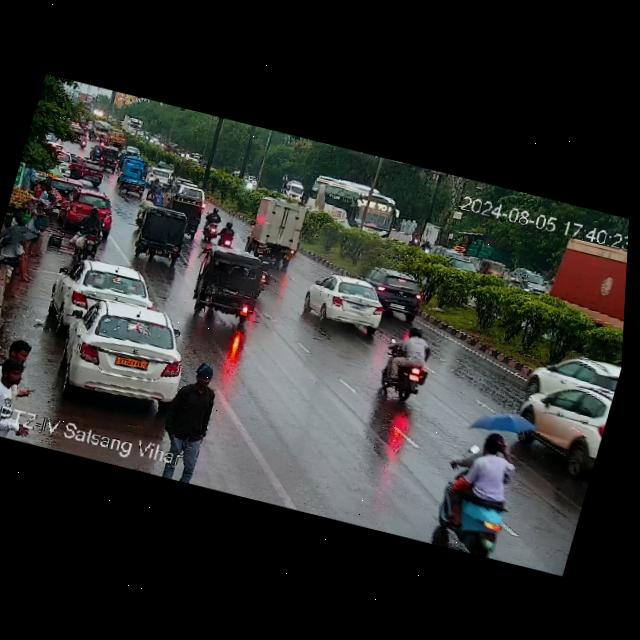bus: (297, 171, 409, 248)
car: (47, 291, 197, 411), (48, 252, 156, 333), (508, 373, 611, 456), (184, 243, 272, 327), (295, 266, 395, 338), (522, 341, 623, 410), (127, 200, 196, 266), (358, 264, 435, 322), (52, 182, 123, 232), (163, 181, 211, 222), (115, 161, 154, 196), (66, 153, 109, 183), (508, 268, 548, 296), (51, 173, 88, 200), (478, 255, 505, 280), (97, 144, 120, 172), (87, 141, 103, 162)
motorcycle: (432, 425, 537, 562), (369, 322, 442, 408), (69, 203, 113, 251), (198, 206, 226, 245), (215, 219, 241, 251), (144, 180, 165, 204), (509, 276, 531, 292), (417, 238, 434, 256), (78, 133, 90, 148)
person: (157, 365, 231, 482), (0, 330, 41, 393), (0, 237, 42, 287), (22, 202, 51, 259), (32, 180, 56, 203), (0, 296, 5, 374)
truck: (531, 233, 628, 325), (244, 191, 319, 266)
